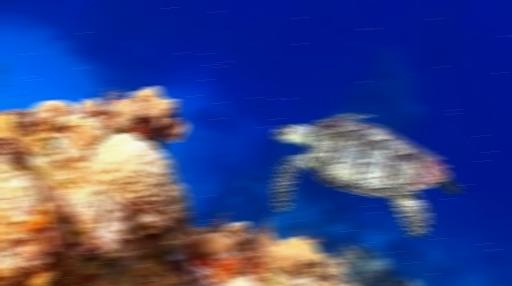Fish: (270, 113, 459, 237), (321, 140, 364, 182)
